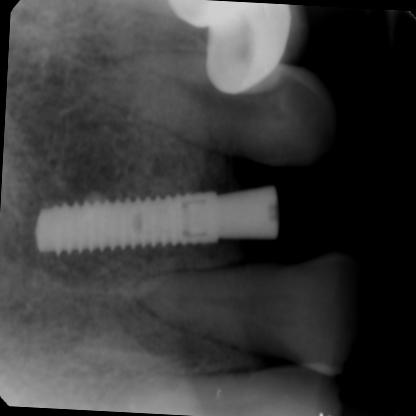ITI: (32, 183, 225, 261)
